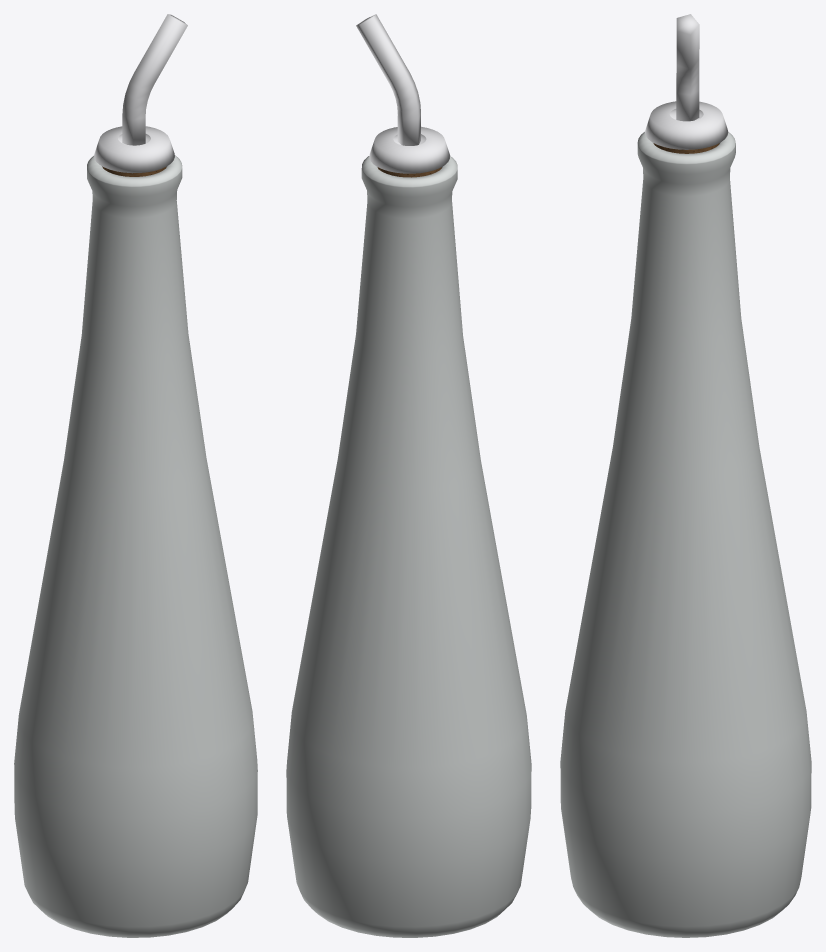
File: bottle_cruet_lod1.glb
The picture shows the model from 3 angles, left to right: view 1: azimuth 30°, elevation 25°; view 2: azimuth 150°, elevation 25°; view 3: azimuth 270°, elevation 25°; orthographic projection. The views are drawn at different scales.
Visible parts, largest first — view 1: Glass, Cap; view 2: Glass, Cap; view 3: Glass, Cap.
Boxes of the visible parts, bbox=[...] form: Glass: bbox=[14, 155, 257, 937]; Cap: bbox=[94, 14, 187, 176]; Glass: bbox=[286, 156, 531, 937]; Cap: bbox=[356, 14, 450, 177]; Glass: bbox=[560, 132, 811, 937]; Cap: bbox=[645, 14, 728, 153].
Bounding box in the file's own units: 0.0659 × 0.2587 × 0.0654.
Materials: 5 (1 with a texture image).
